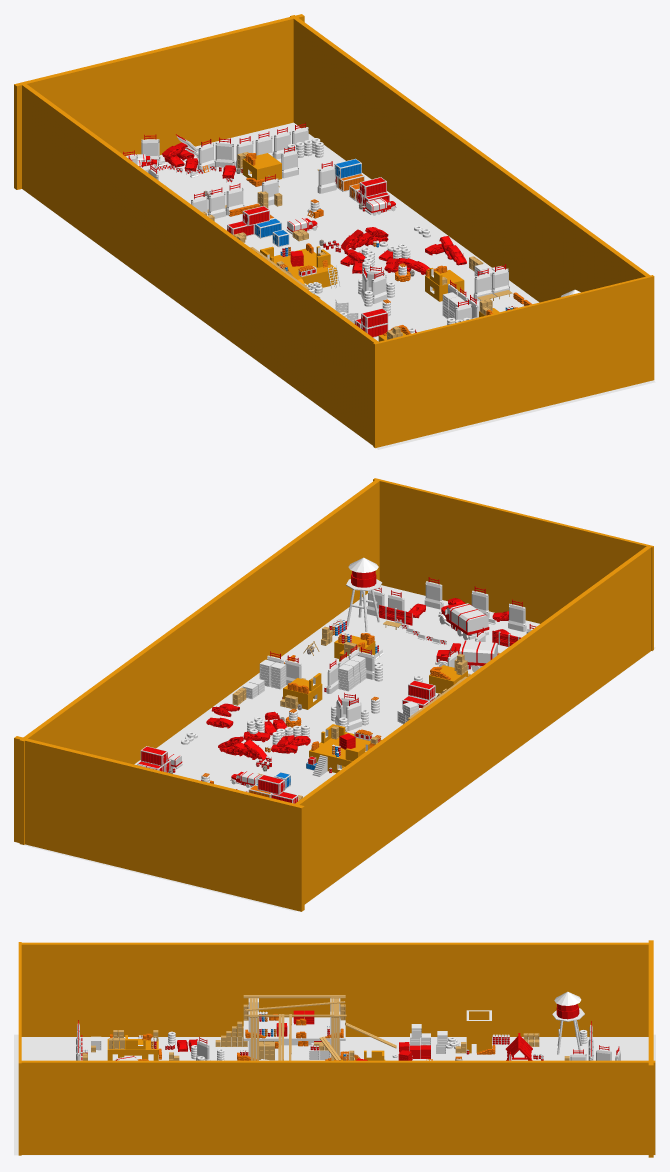
File: map2.fbx
3 views of the same model, one above another, from view 1: azimuth 30°, elevation 25°; view 2: azimuth 150°, elevation 25°; view 3: azimuth 270°, elevation 25° (orthographic). The views are drawn at different scales.
Parts seen in each view (by area): view 1: cube -convcol; view 2: cube -convcol; view 3: cube -convcol.
Part boxes in pixels (x1,y1,x2,y2): cube -convcol: [14, 14, 655, 449]; cube -convcol: [14, 478, 655, 911]; cube -convcol: [14, 940, 655, 1157].
Size of the model in its own units: 11613 by 4208 by 25200.
